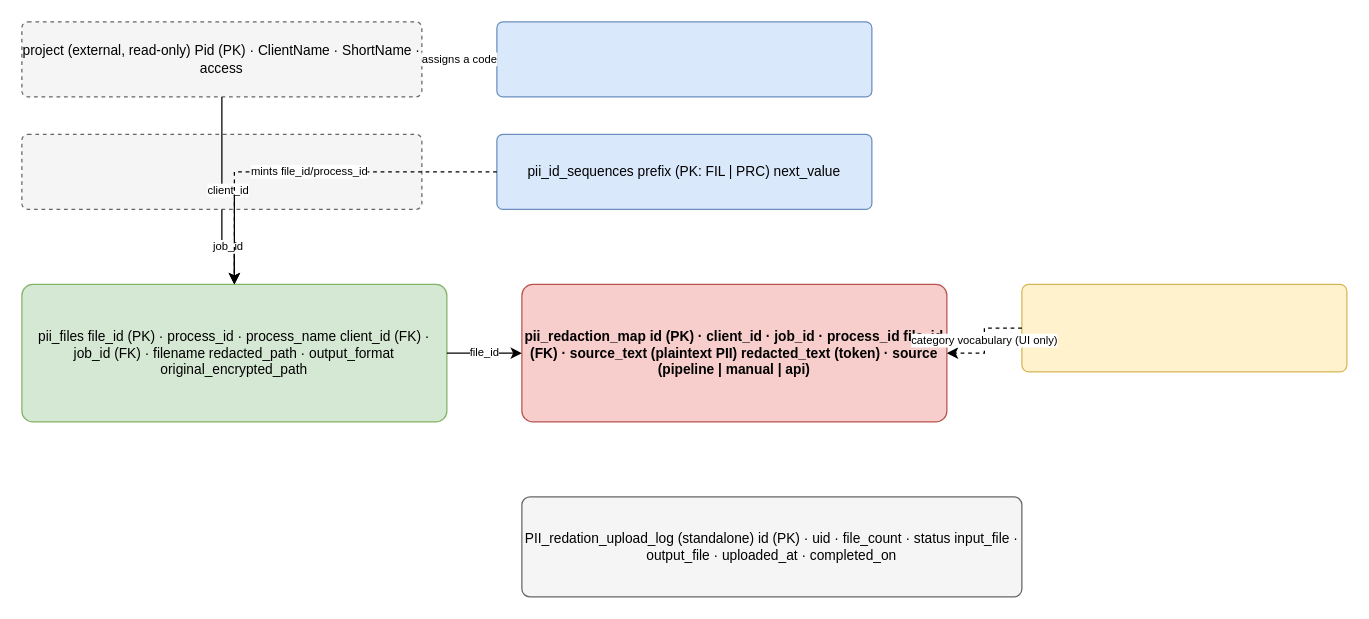
The diagram is 1369 pixels wide and 619 high, and some of its shapes have lost their labels. The shapes that lost their labels are listed below. From the top down, each one's centre as x and y in pixels, then its label:
[684,59]: pii_client_codes pid (PK, = project.Pid) code (UK) · source
[221,171]: activity (external, read-only) Aid (PK) · Pid (FK) · jobdescription · Date
[1184,327]: pii_categories id (PK) · name (UK) UI dropdown vocabulary only
